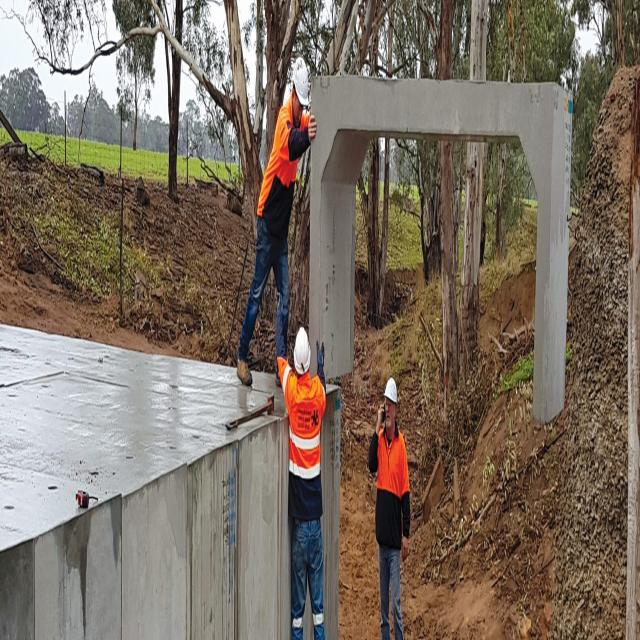cement: (309, 76, 572, 421), (0, 326, 289, 639)
red-sand: (0, 150, 254, 366), (402, 382, 569, 639), (339, 435, 380, 639)
